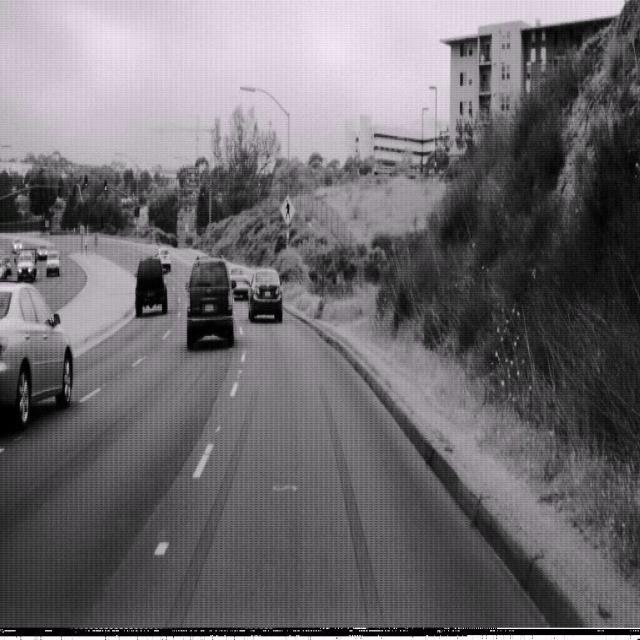pedestrianCrossing: (279, 192, 296, 225)
